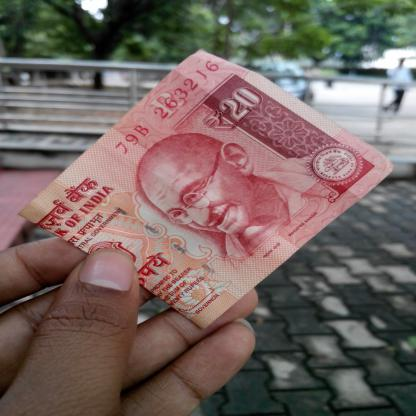Old20Front: (45, 54, 365, 309)
